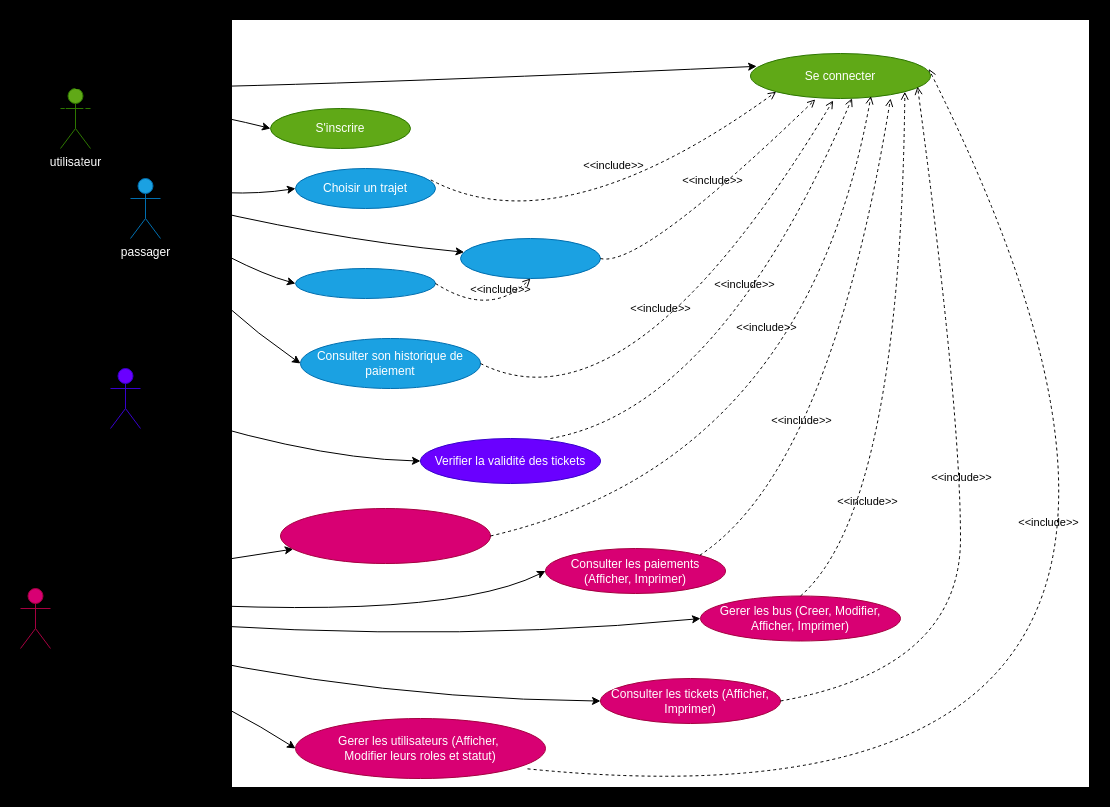
Image size: 1110x807. Some labels were removed from this diagram. The centre of each missing label's shape, as x and y in pixels:
admin: pixel 35 618
AVoir un ticket: pixel 365 283
controlleur: pixel 125 398
Effectuer un paiement: pixel 530 258
Gerer les trajets (Creer, Modifier, Afficher, Imprimer): pixel 385 536
